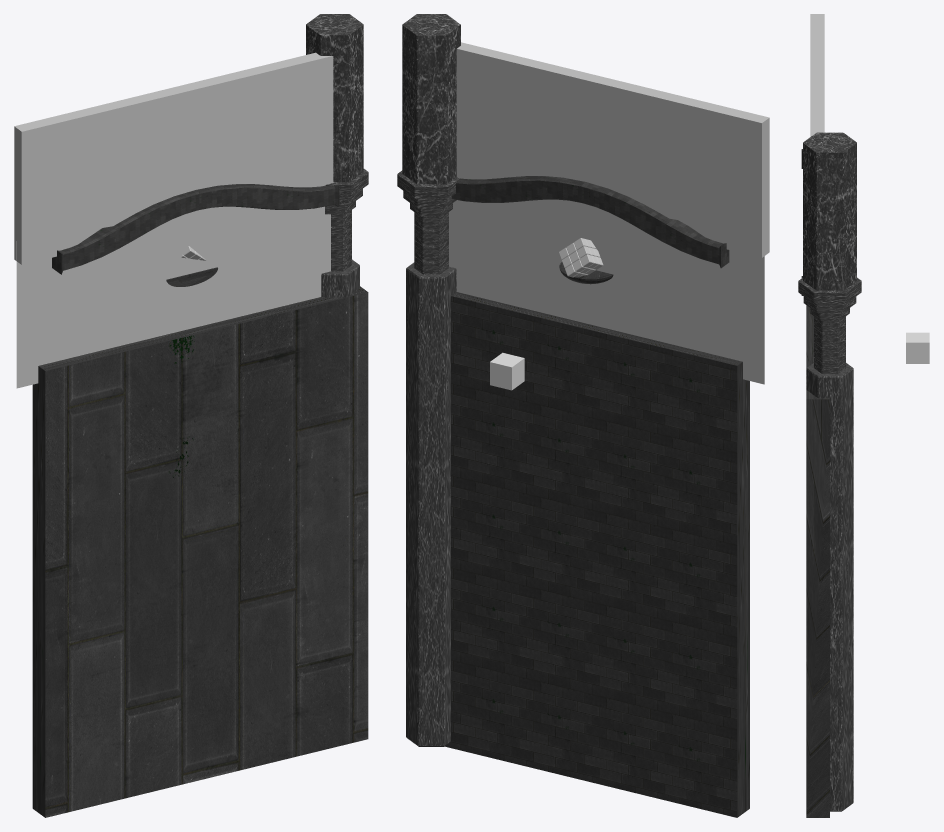
3 views of the same model, side by side, from view 1: azimuth 30°, elevation 25°; view 2: azimuth 150°, elevation 25°; view 3: azimuth 270°, elevation 25° (orthographic). The views are drawn at different scales.
Visible parts, largest first — view 1: 立方体.006, 立方体.005, 平面.007, 円柱.030, 平面.006, 平面.001, 円柱.022; view 2: 立方体.006, 立方体.005, 平面.007, 円柱.022, 円柱.030, 平面.006, 平面.001, 立方体.001, Cube, 円柱.021; view 3: 円柱.022, 立方体.006, 円柱.030, 立方体.005, 円柱.021, Cube, 円柱.024, 円柱.025, 円柱.029, 円柱.026, 円柱.023, 円柱.028.
Part boxes in pixels (x1,y1,x2,y2): 立方体.006: [32, 286, 368, 817]; 立方体.005: [14, 52, 334, 264]; 平面.007: [16, 206, 331, 388]; 円柱.030: [306, 14, 363, 182]; 平面.006: [52, 186, 335, 274]; 平面.001: [52, 184, 339, 274]; 円柱.022: [321, 259, 359, 297]; 立方体.006: [445, 292, 749, 817]; 立方体.005: [456, 42, 769, 257]; 平面.007: [449, 199, 764, 384]; 円柱.022: [406, 262, 456, 746]; 円柱.030: [402, 14, 460, 184]; 平面.006: [451, 176, 729, 268]; 平面.001: [457, 176, 720, 267]; 立方体.001: [559, 238, 603, 277]; Cube: [490, 352, 524, 390]; 円柱.021: [397, 170, 460, 198]; 円柱.022: [806, 363, 853, 811]; 立方体.006: [806, 305, 829, 817]; 円柱.030: [803, 132, 856, 290]; 立方体.005: [810, 14, 824, 136]; 円柱.021: [798, 277, 861, 303]; Cube: [906, 332, 929, 363]; 円柱.024: [814, 342, 845, 362]; 円柱.025: [814, 327, 845, 347]; 円柱.029: [803, 296, 856, 312]; 円柱.026: [814, 316, 845, 332]; 円柱.023: [814, 357, 845, 373]; 円柱.028: [810, 308, 849, 320].
Size of the model in its own units: 3200 by 6217 by 1112.
